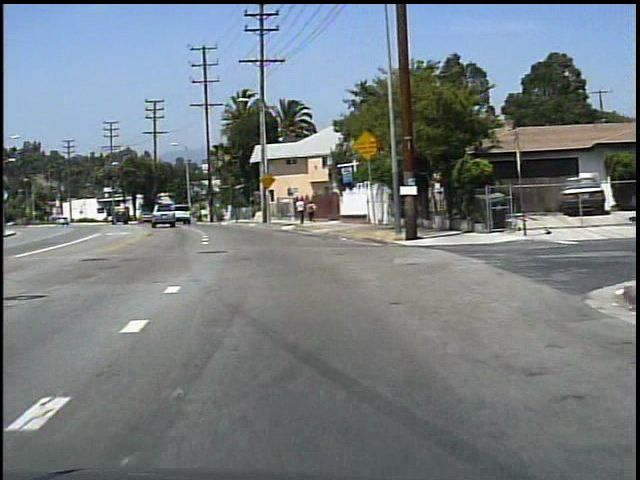person: (294, 196, 307, 225), (306, 198, 317, 224)
